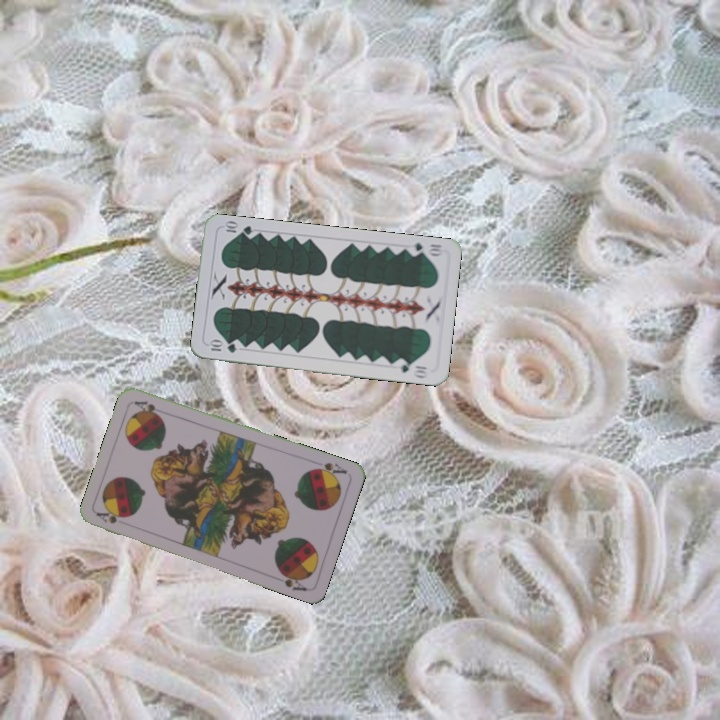G10: (404, 239, 446, 259), (205, 338, 240, 355)
SA: (308, 457, 349, 480), (93, 508, 127, 526)
